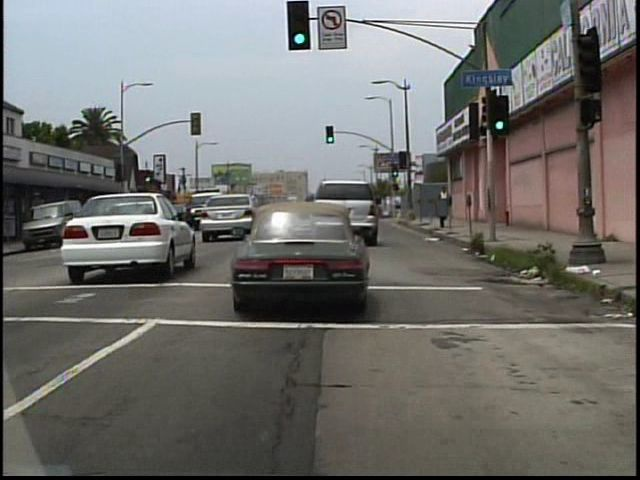person: (438, 185, 452, 220)
